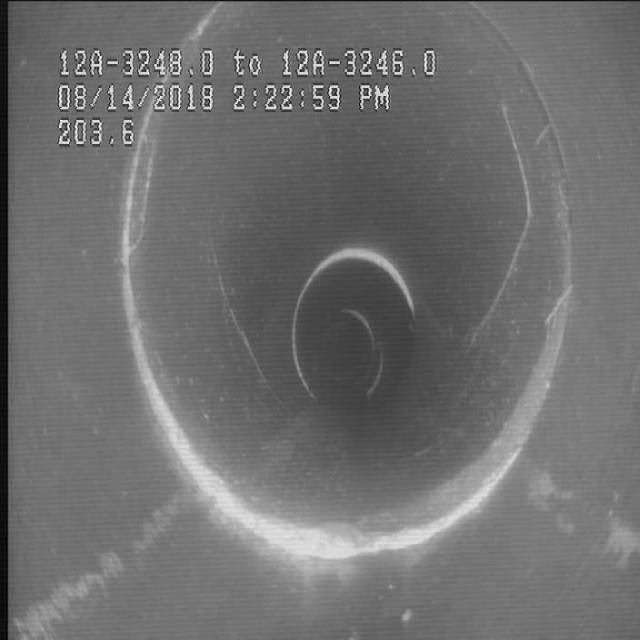Crack: (462, 110, 558, 334), (208, 229, 266, 389)
